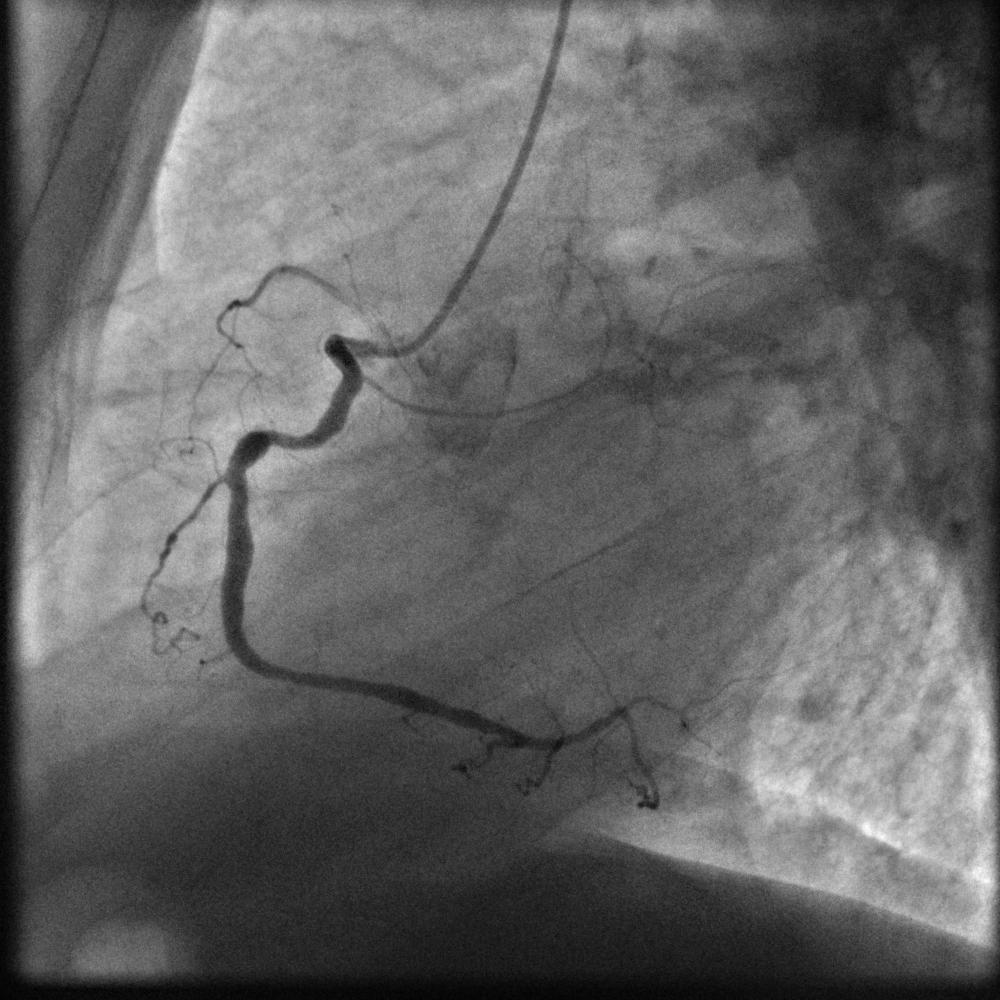Stenosis: (263, 426, 305, 457)
